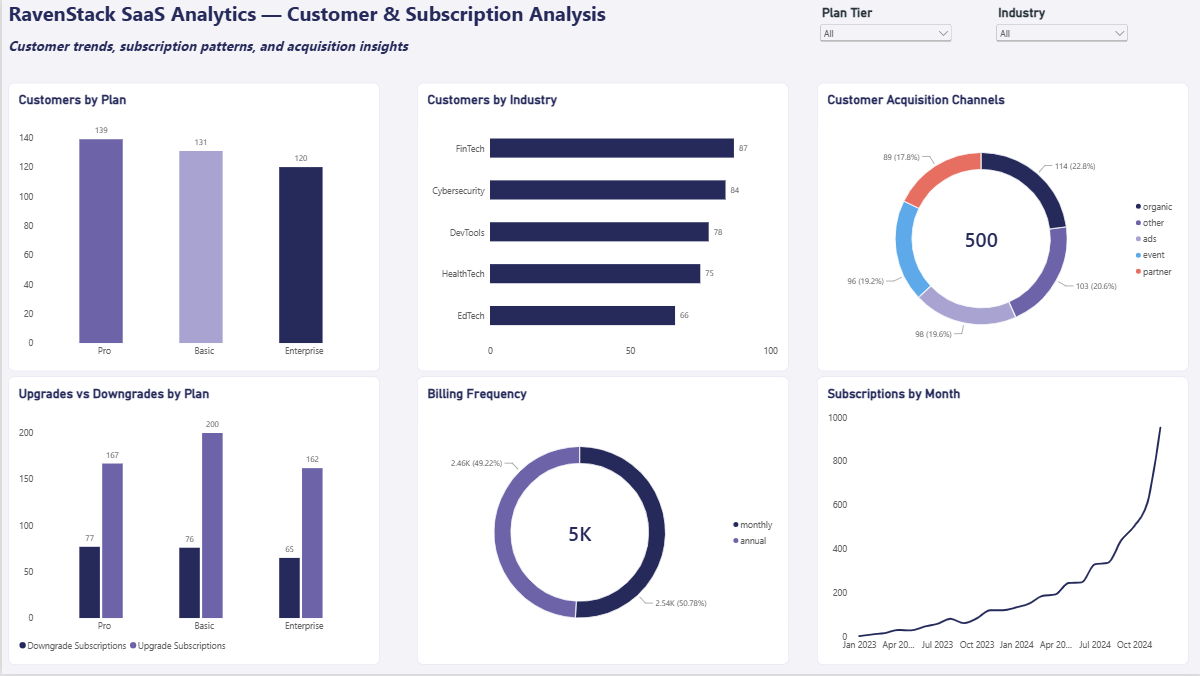

What the dashboard file says about the page in this screenshot:
{"tool":"powerbi","page":{"name":"02 Customer and Subscription Analysis","canvas":[1920,1080],"ordinal":1},"visuals":[{"type":"textbox","box":[10.8,0,1012.6,59.5],"z":0},{"type":"textbox","box":[10.8,59.5,652.3,39.6],"z":1},{"type":"clusteredColumnChart","title":"Customers by Plan","fields":{"Category":["accounts.plan_tier"],"Y":["accounts.Active Customers"]},"box":[10.8,133.3,594.6,461.3],"z":2},{"type":"clusteredBarChart","title":"Customers by Industry","fields":{"Category":["accounts.industry"],"Y":["accounts.Active Customers"]},"box":[663.1,133.3,594.6,461.3],"z":3},{"type":"donutChart","title":"Customer Acquisition Channels","fields":{"Category":["accounts.referral_source"],"Y":["accounts.Total Customers"]},"box":[1304.5,133.3,594.6,461.3],"z":4},{"type":"lineChart","title":"Subscriptions by Month","fields":{"Category":["subscriptions.Start Month"],"Y":["subscriptions.Total Subscriptions"]},"box":[1304.5,603.6,594.6,461.3],"z":6},{"type":"clusteredColumnChart","title":"Upgrades vs Downgrades by Plan","fields":{"Category":["accounts.plan_tier"],"Y":["subscriptions.Downgrade Subscriptions","subscriptions.Upgrade Subscriptions"]},"box":[10.8,603.6,594.6,461.3],"z":7},{"type":"donutChart","title":"Billing Frequency","fields":{"Category":["subscriptions.billing_frequency"],"Y":["CountNonNull(subscriptions.subscription_id)"]},"box":[663,604,595,461],"z":8},{"type":"slicer","fields":{"Values":["accounts.plan_tier"]},"box":[1304,10,220,100],"z":9},{"type":"slicer","fields":{"Values":["accounts.industry"]},"box":[1586,10,220,100],"z":10}]}

Visuals, with their boxes in screenshot pixels (x1, y1, x2, y2), scaled from the page's 1920x1080 canvas onto the 1200x676 screenshot:
textbox: [x1=7, y1=0, x2=640, y2=37]
textbox: [x1=7, y1=37, x2=414, y2=62]
"Customers by Plan" clusteredColumnChart: [x1=7, y1=83, x2=378, y2=372]
"Customers by Industry" clusteredBarChart: [x1=414, y1=83, x2=786, y2=372]
"Customer Acquisition Channels" donutChart: [x1=815, y1=83, x2=1187, y2=372]
"Subscriptions by Month" lineChart: [x1=815, y1=378, x2=1187, y2=667]
"Upgrades vs Downgrades by Plan" clusteredColumnChart: [x1=7, y1=378, x2=378, y2=667]
"Billing Frequency" donutChart: [x1=414, y1=378, x2=786, y2=667]
slicer - accounts.plan_tier: [x1=815, y1=6, x2=952, y2=69]
slicer - accounts.industry: [x1=991, y1=6, x2=1129, y2=69]
